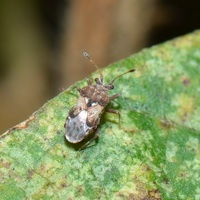insect: (64, 52, 134, 149)
